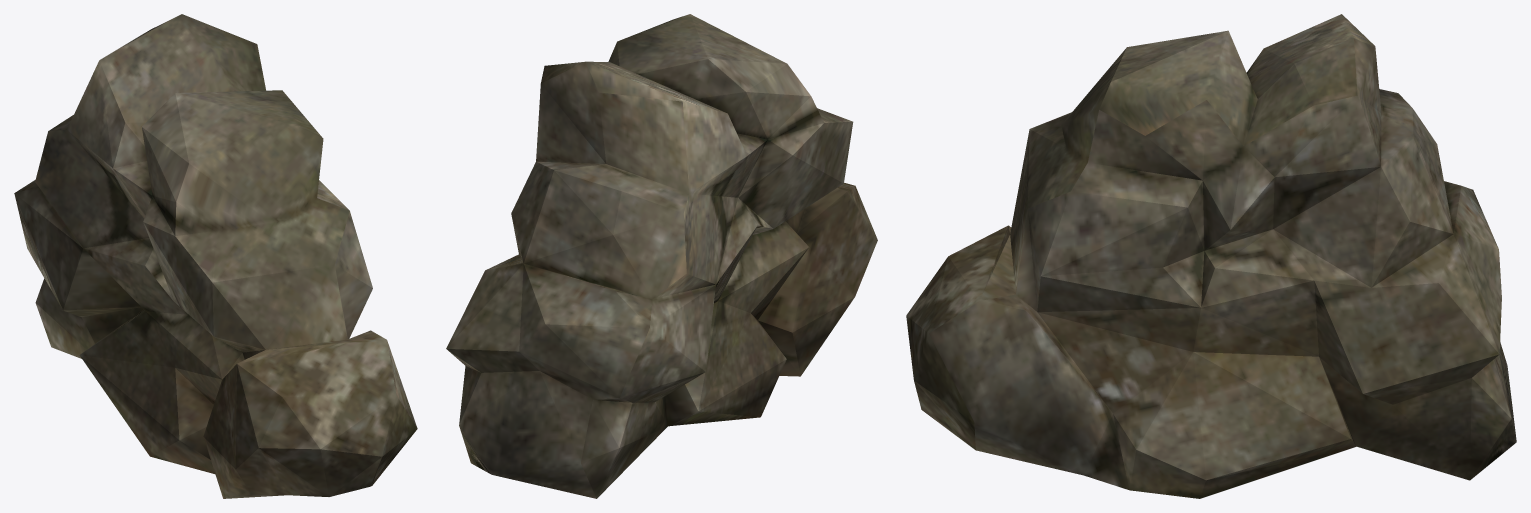
Rendered from bg_anh_mirrorv_cw07_sm_old.FBX.
The picture shows the model from 3 angles, left to right: view 1: azimuth 30°, elevation 25°; view 2: azimuth 150°, elevation 25°; view 3: azimuth 270°, elevation 25°; orthographic projection. The views are drawn at different scales.
Parts seen in each view (by area): view 1: bg_anh_mirrorv_cw07_sm_old; view 2: bg_anh_mirrorv_cw07_sm_old; view 3: bg_anh_mirrorv_cw07_sm_old.
Boxes of the visible parts, x1,y1,x2,y2 form: bg_anh_mirrorv_cw07_sm_old: [14, 14, 417, 498]; bg_anh_mirrorv_cw07_sm_old: [446, 14, 877, 498]; bg_anh_mirrorv_cw07_sm_old: [906, 14, 1516, 498].
Size of the model in its own units: 37.52 by 62.93 by 82.37.
